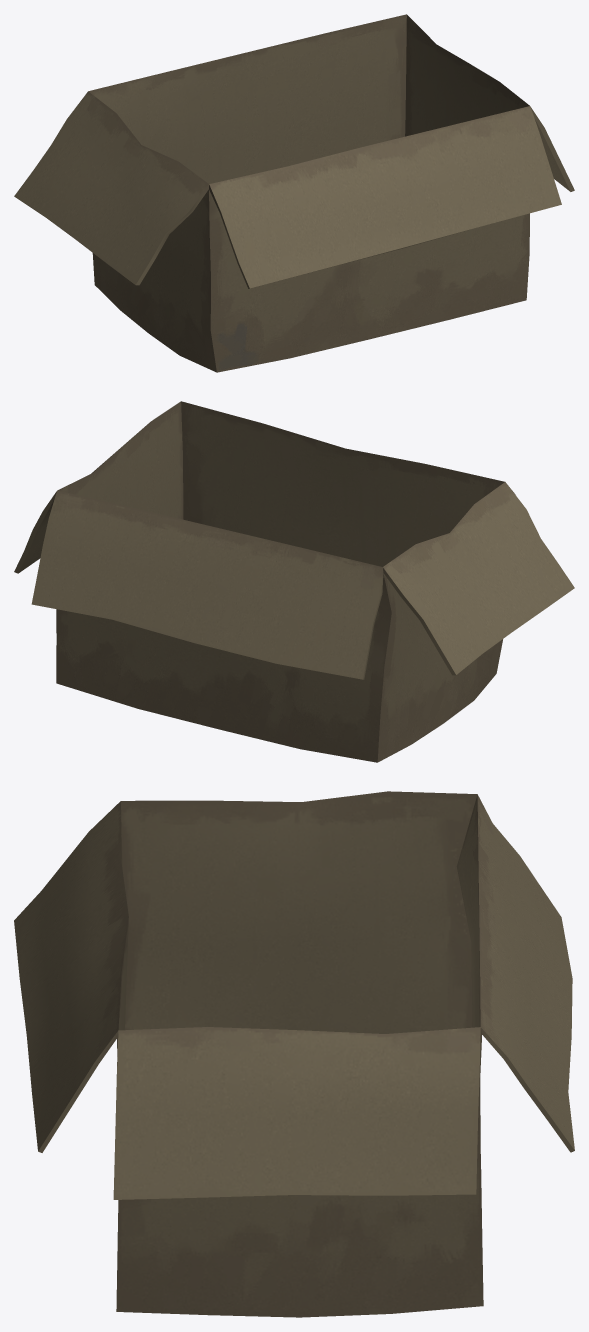
File: cardboard_box.glb
3 views of the same model, one above another, from view 1: azimuth 30°, elevation 25°; view 2: azimuth 150°, elevation 25°; view 3: azimuth 270°, elevation 25° (orthographic). The views are drawn at different scales.
Visible parts, largest first — view 1: CardboardBox; view 2: CardboardBox; view 3: CardboardBox.
Part boxes in pixels (x1,y1,x2,y2): CardboardBox: [14, 14, 574, 372]; CardboardBox: [14, 401, 574, 762]; CardboardBox: [14, 791, 574, 1317].
Bounding box in the file's own units: 0.5501 × 0.2396 × 0.4144.
Materials: 1 (1 with a texture image).
